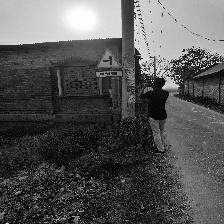Side-road-left: (96, 48, 123, 78)
